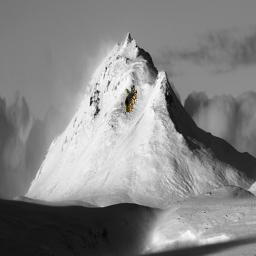Woodpecker: (123, 86, 137, 115)
